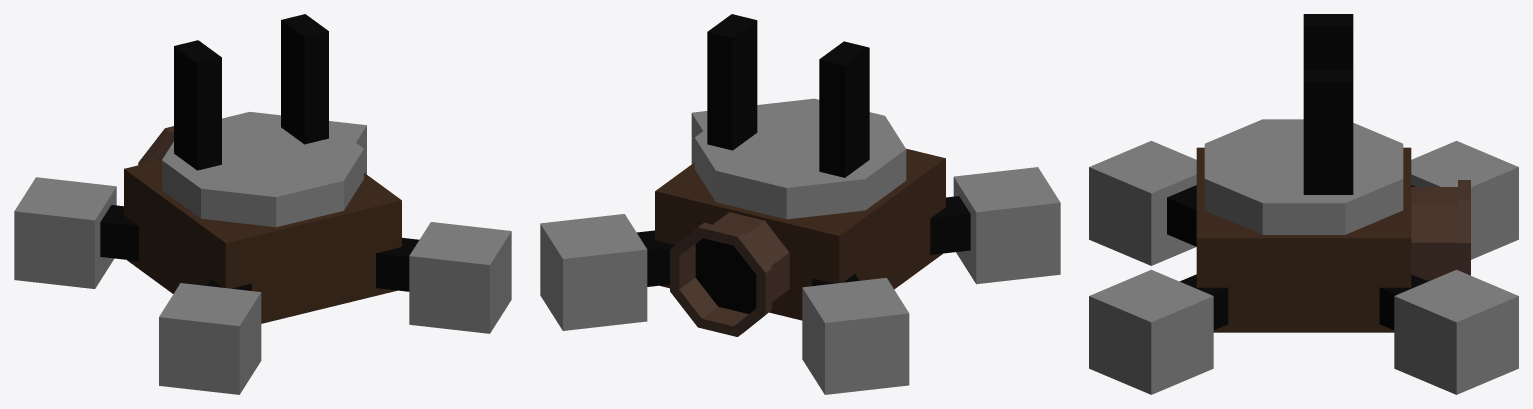
Rendered from Turret.fbx.
The picture shows the model from 3 angles, left to right: view 1: azimuth 30°, elevation 25°; view 2: azimuth 150°, elevation 25°; view 3: azimuth 270°, elevation 25°; orthographic projection. The views are drawn at different scales.
Visible parts, largest first — view 1: Cube.072, Cube.071, Cylinder.051; view 2: Cube.072, Cube.071, Cylinder.051; view 3: Cube.072, Cube.071, Cylinder.051.
Part boxes in pixels (x1=…): Cube.072: x1=14, y1=121, x2=511, y2=394; Cube.071: x1=162, y1=14, x2=363, y2=227; Cylinder.051: x1=138, y1=126, x2=173, y2=165; Cube.072: x1=540, y1=111, x2=1060, y2=394; Cube.071: x1=694, y1=14, x2=906, y2=219; Cylinder.051: x1=670, y1=212, x2=789, y2=336; Cube.072: x1=1089, y1=141, x2=1518, y2=394; Cube.071: x1=1204, y1=14, x2=1403, y2=234; Cylinder.051: x1=1411, y1=180, x2=1470, y2=281.
Bounding box in the file's own units: 141 × 94.11 × 141.
